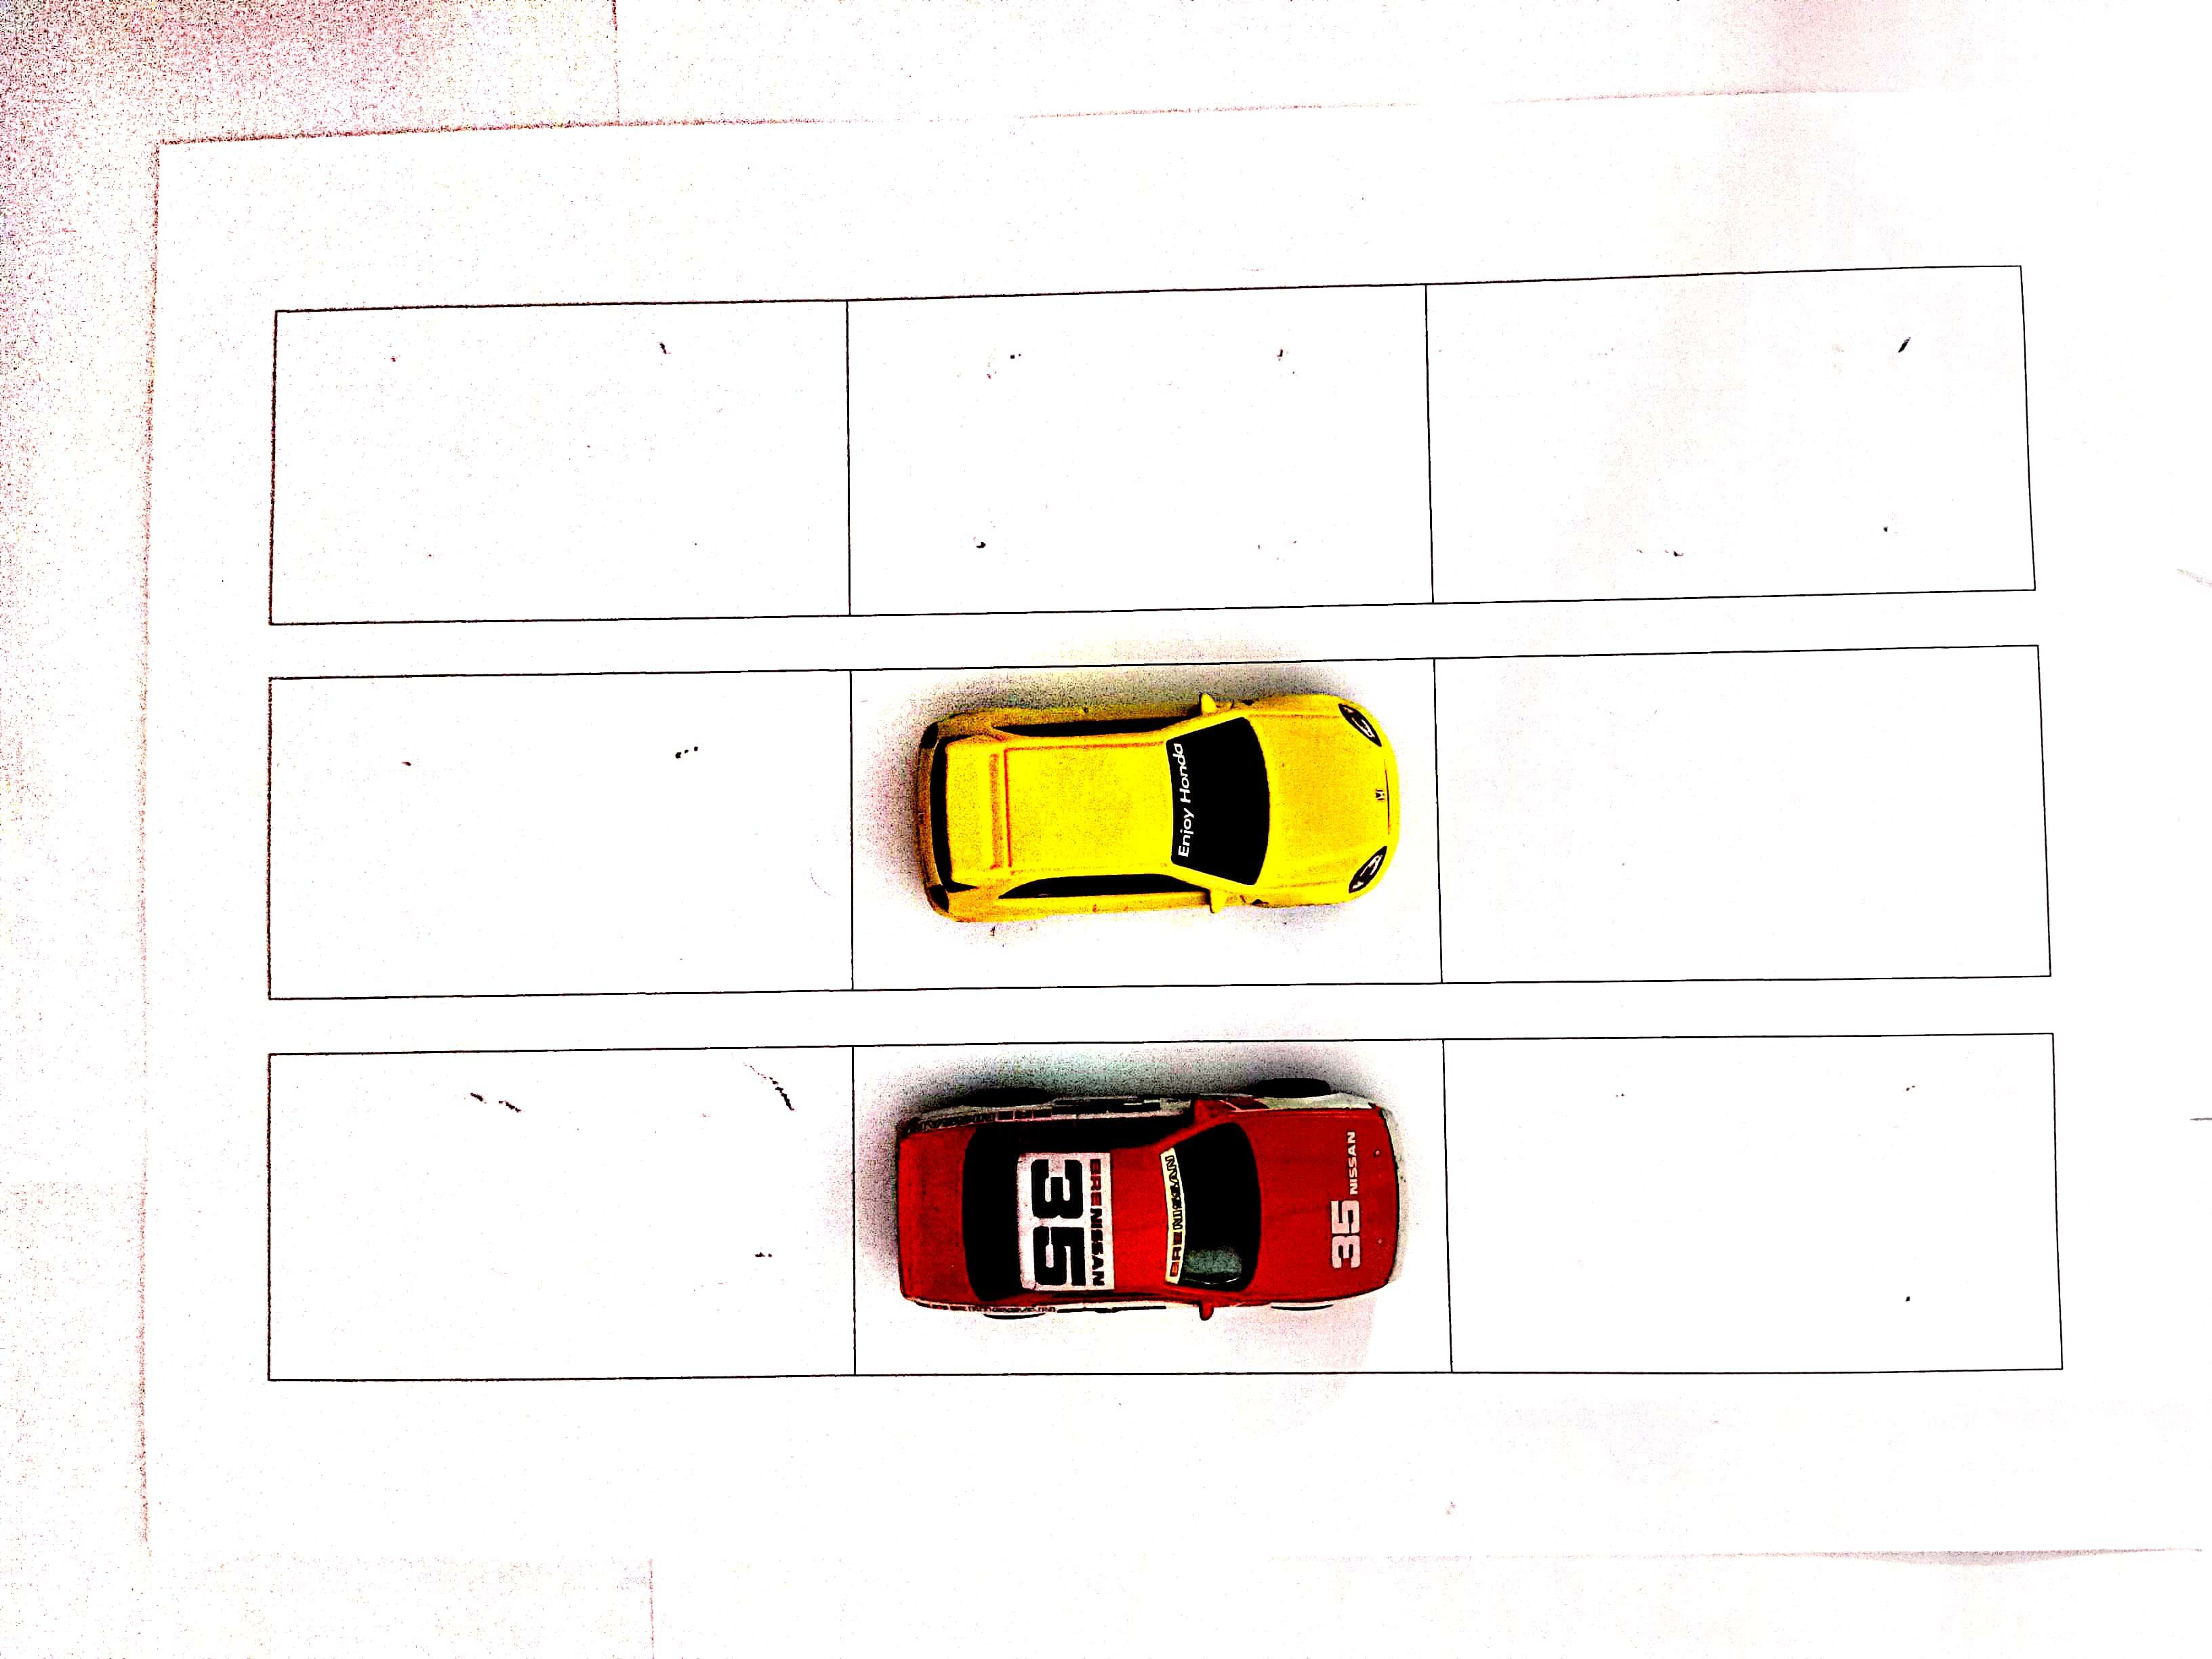Busy: (860, 1035, 1442, 1366), (860, 662, 1432, 976)
Free: (1451, 1028, 2047, 1370), (1433, 267, 2029, 594), (261, 666, 848, 997), (1446, 657, 2045, 979), (852, 288, 1428, 613), (277, 1053, 848, 1378), (270, 310, 848, 619)
